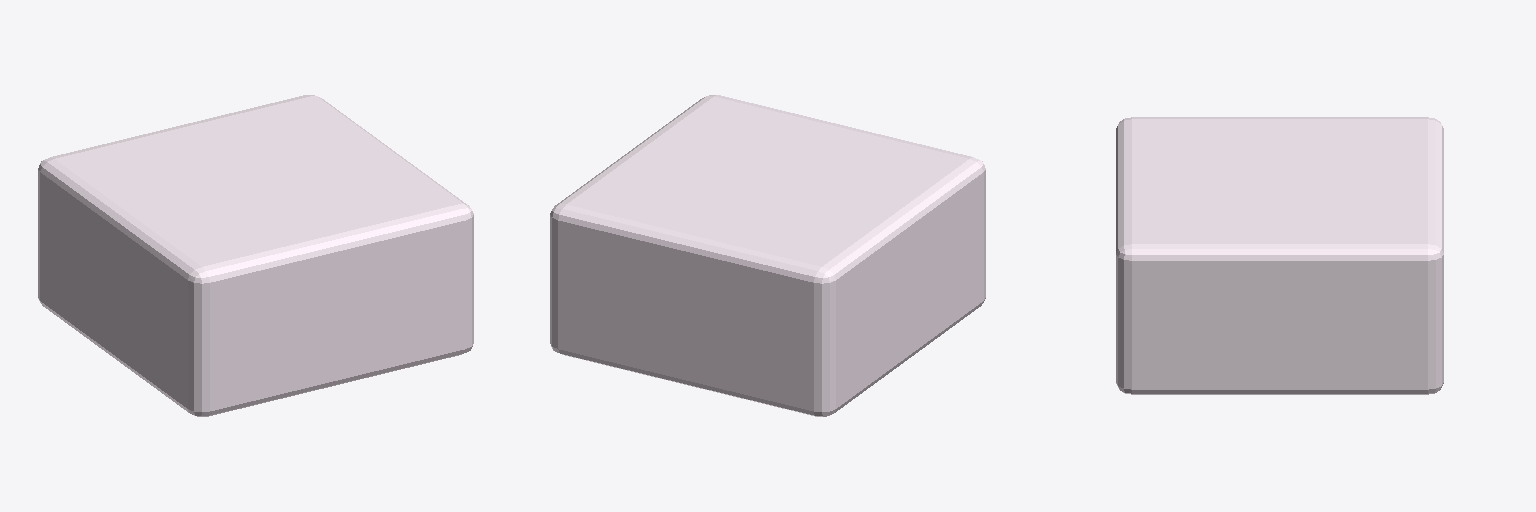
File: stand.obj
The picture shows the model from 3 angles: view 1: azimuth 30°, elevation 25°; view 2: azimuth 150°, elevation 25°; view 3: azimuth 270°, elevation 25°; orthographic projection.
Visible parts, largest first — view 1: stand; view 2: stand; view 3: stand.
Part boxes in pixels (left/top/right/bottom): stand: left=38, top=95, right=473, bottom=416; stand: left=550, top=95, right=985, bottom=416; stand: left=1116, top=117, right=1443, bottom=394.
Bounding box in the file's own units: 9 × 4.5 × 9.